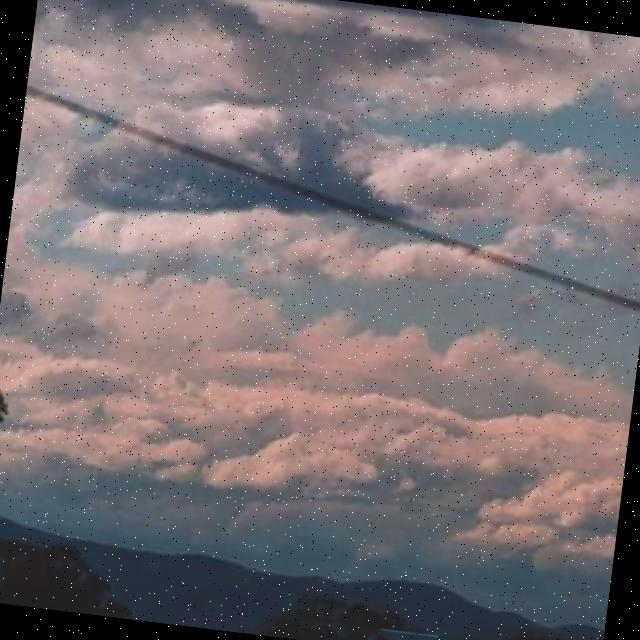Ci: (1, 154, 640, 535)
